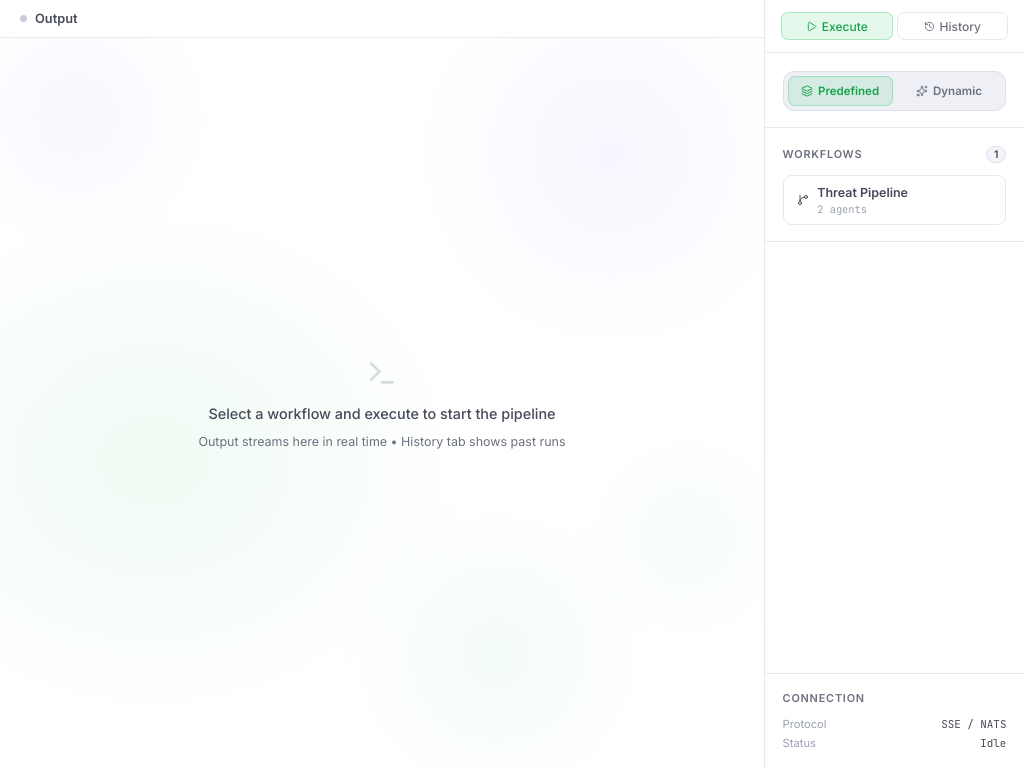
AgentOrchestration tab switching › switches to History tab
Click the button "History".
click(952, 26)  # box top-left (896, 12), bottom-right (1008, 40)
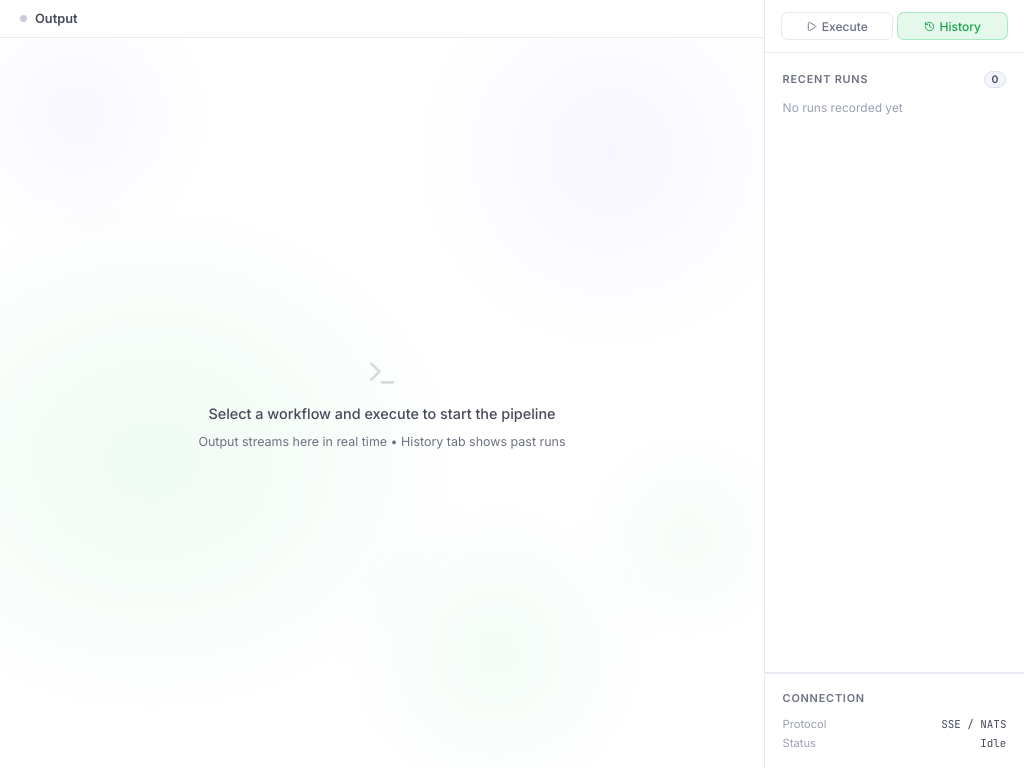
Expected: the button "Threat Pipeline" is gone
